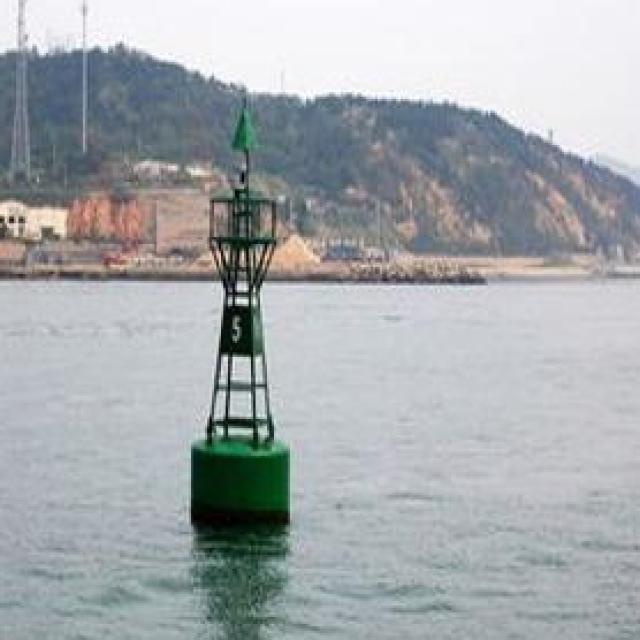buoy: (174, 93, 298, 523)
